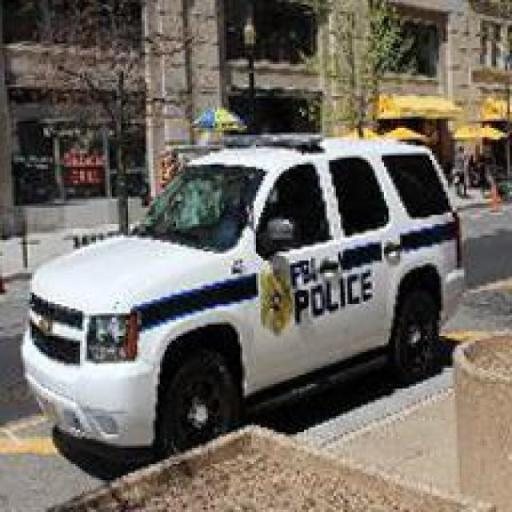Ambulance: (24, 127, 466, 454)
